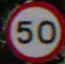Speed limit: (3, 1, 60, 56)
